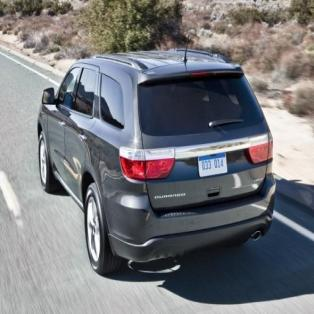Auto: (35, 30, 278, 278)
